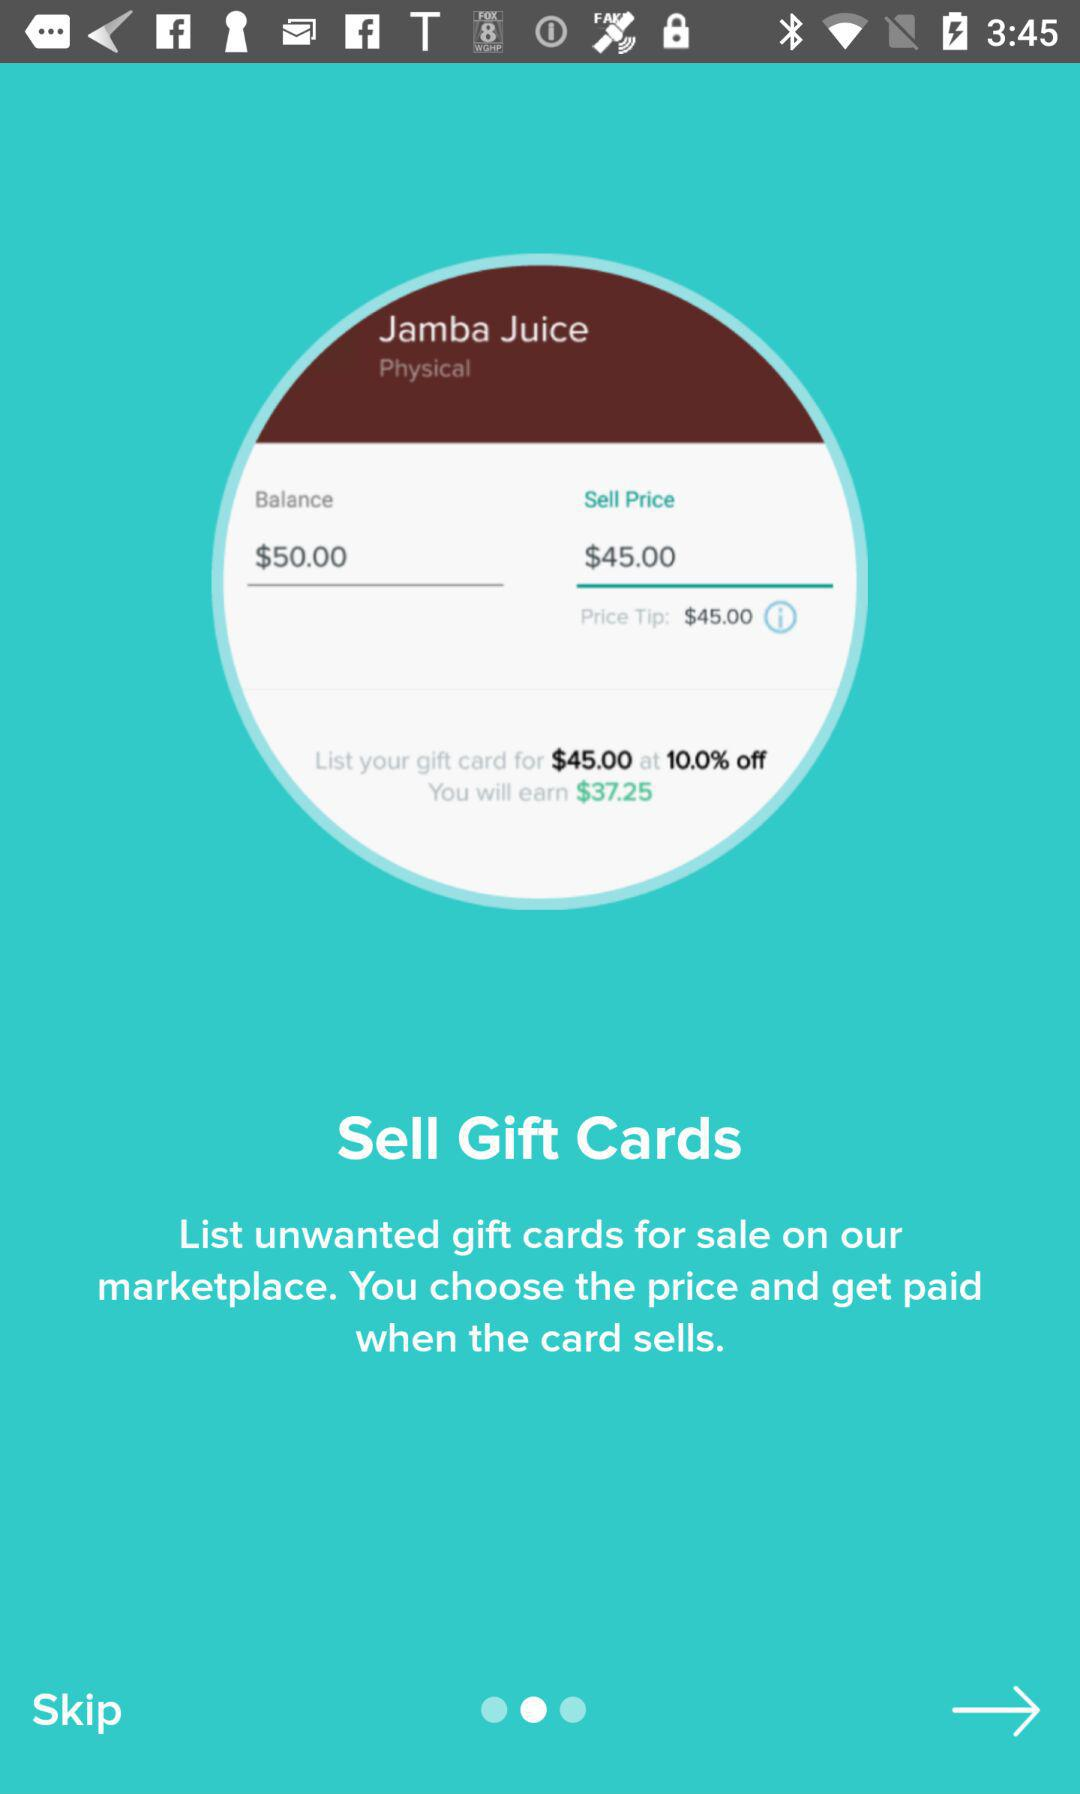Icon: (951, 1685, 1042, 1738)
Image: (208, 251, 869, 912)
PageIndicator: (480, 1695, 588, 1725)
Text: (99, 1219, 981, 1353), (340, 1114, 744, 1161), (32, 1691, 123, 1735)
UpperTaskBar: (1, 1, 1080, 64)
